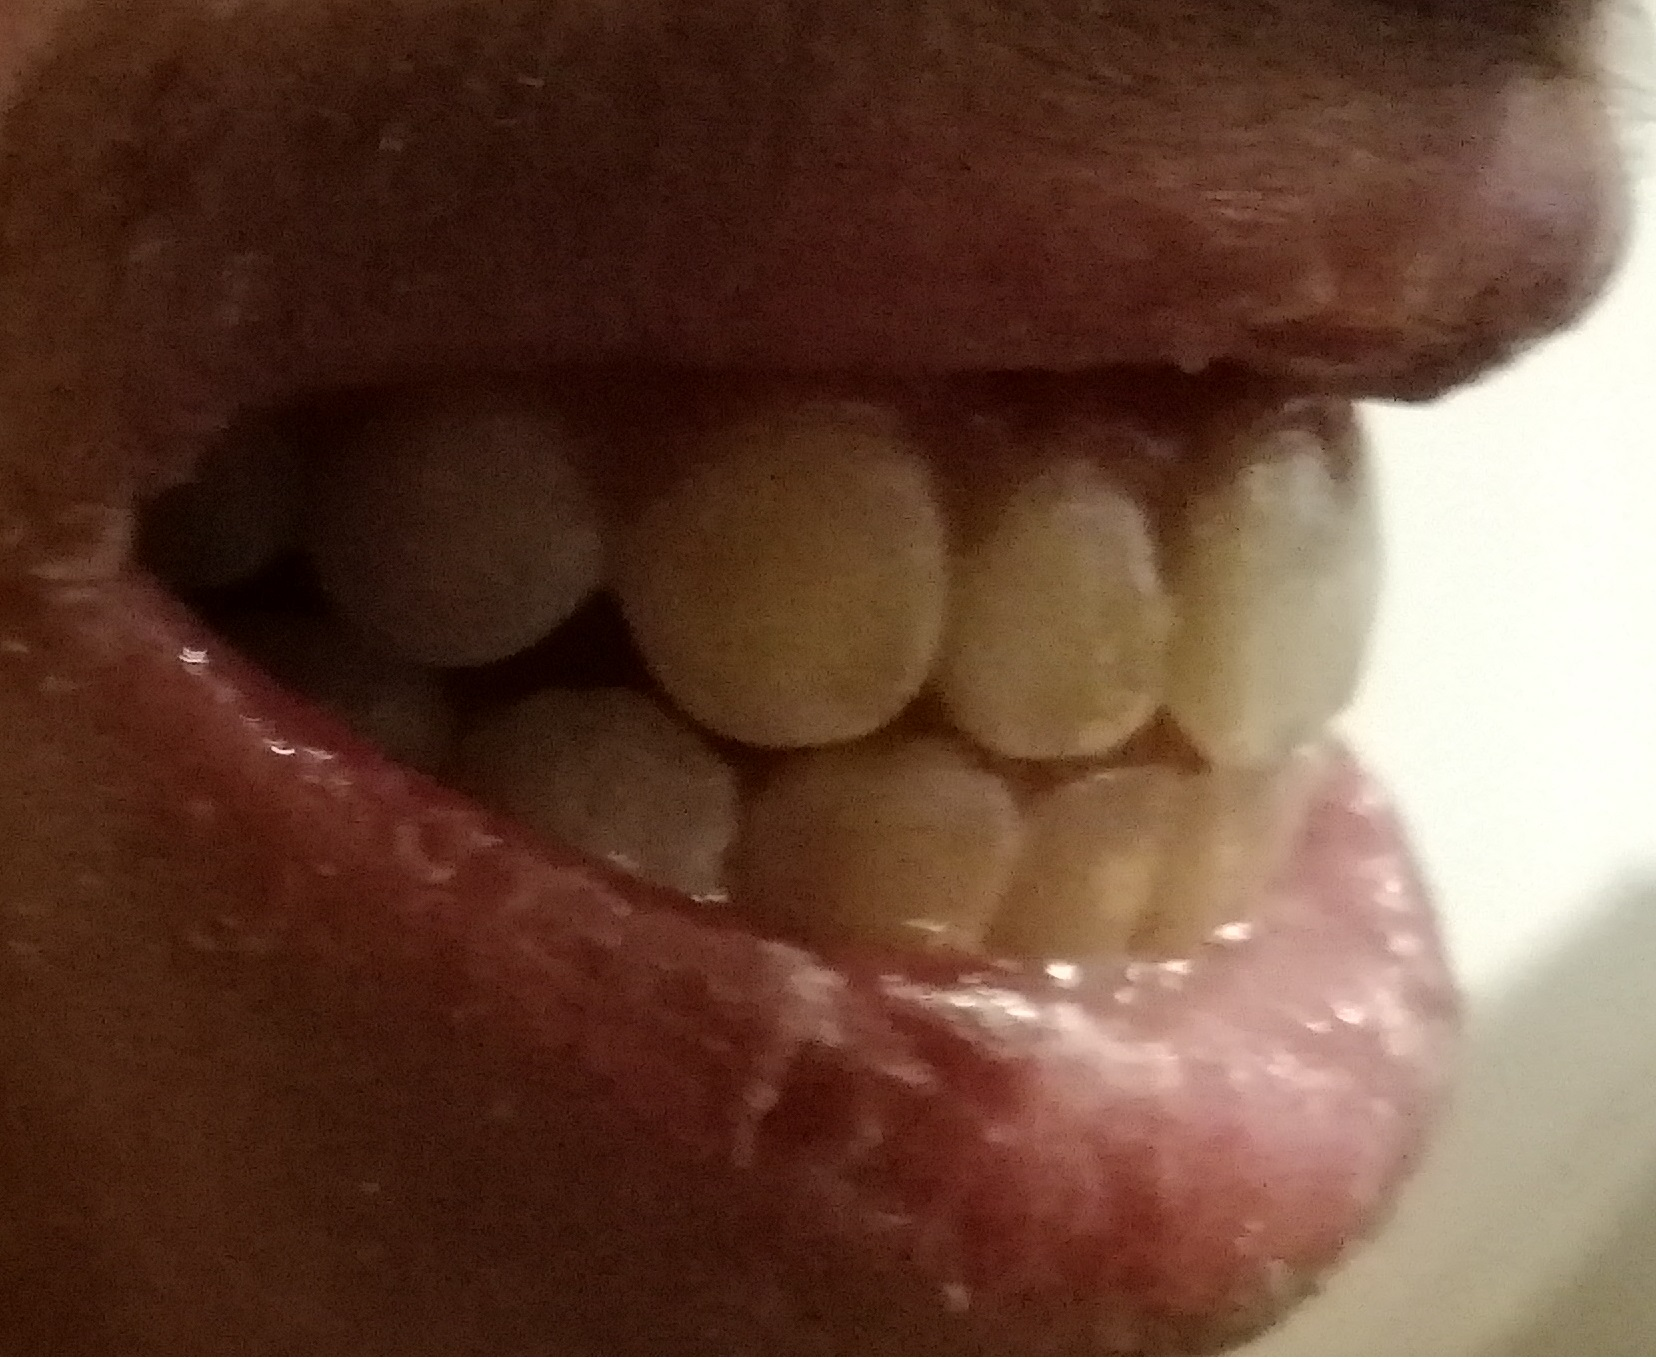boca: (209, 411, 1360, 947)
